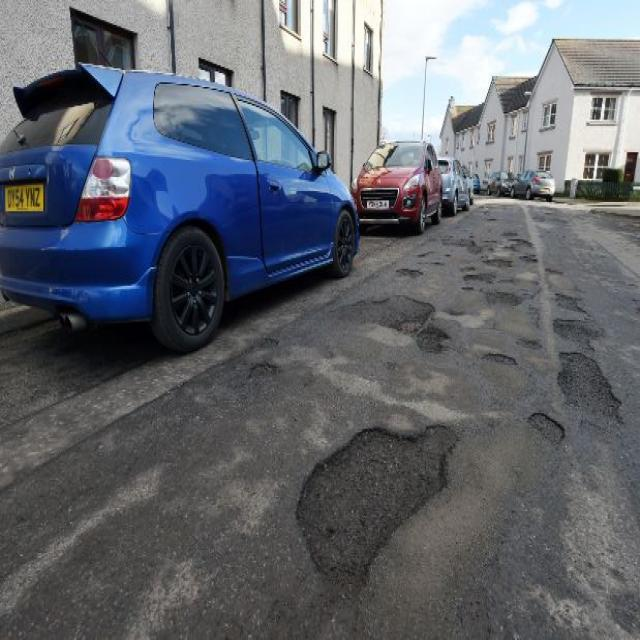Pothole: (294, 416, 458, 603), (347, 296, 452, 360), (557, 348, 625, 424), (552, 317, 603, 352), (528, 408, 568, 451)
